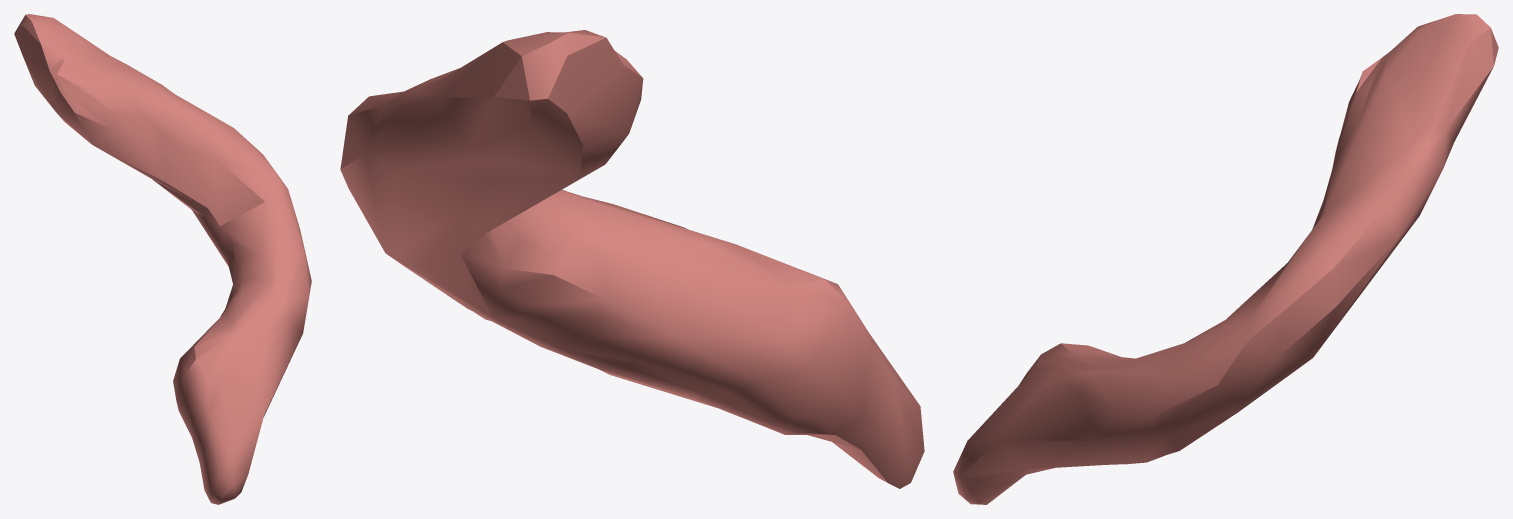
The model's file is fma21930_fj1450m.glb.
3 renders of one model, left to right at view 1: azimuth 30°, elevation 25°; view 2: azimuth 150°, elevation 25°; view 3: azimuth 270°, elevation 25°, orthographic. The views are drawn at different scales.
Visible parts, largest first — view 1: FMA21930_FJ1450M; view 2: FMA21930_FJ1450M; view 3: FMA21930_FJ1450M.
Boxes of the visible parts, <box> form: FMA21930_FJ1450M: <box>14,14,311,504</box>; FMA21930_FJ1450M: <box>340,30,924,488</box>; FMA21930_FJ1450M: <box>953,14,1498,504</box>.
Bounding box in the file's own units: 0.0115 × 0.0213 × 0.0218.
